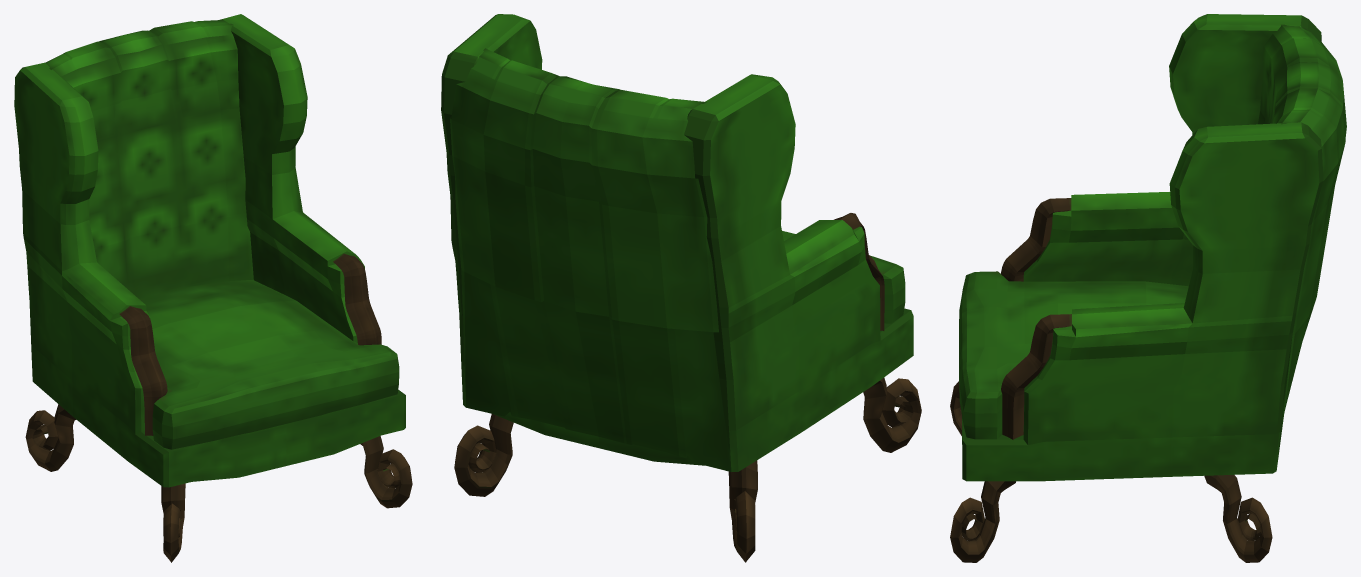
Rendered from E_FancyChair.fbx.
3 views of the same model, side by side, from view 1: azimuth 30°, elevation 25°; view 2: azimuth 150°, elevation 25°; view 3: azimuth 270°, elevation 25° (orthographic). The views are drawn at different scales.
Parts seen in each view (by area): view 1: fancy chair.002; view 2: fancy chair.002; view 3: fancy chair.002.
Boxes of the visible parts, <box> form: fancy chair.002: <box>14,14,412,562</box>; fancy chair.002: <box>441,14,921,562</box>; fancy chair.002: <box>950,14,1346,562</box>.
Size of the model in its own units: 166 by 245 by 204.
